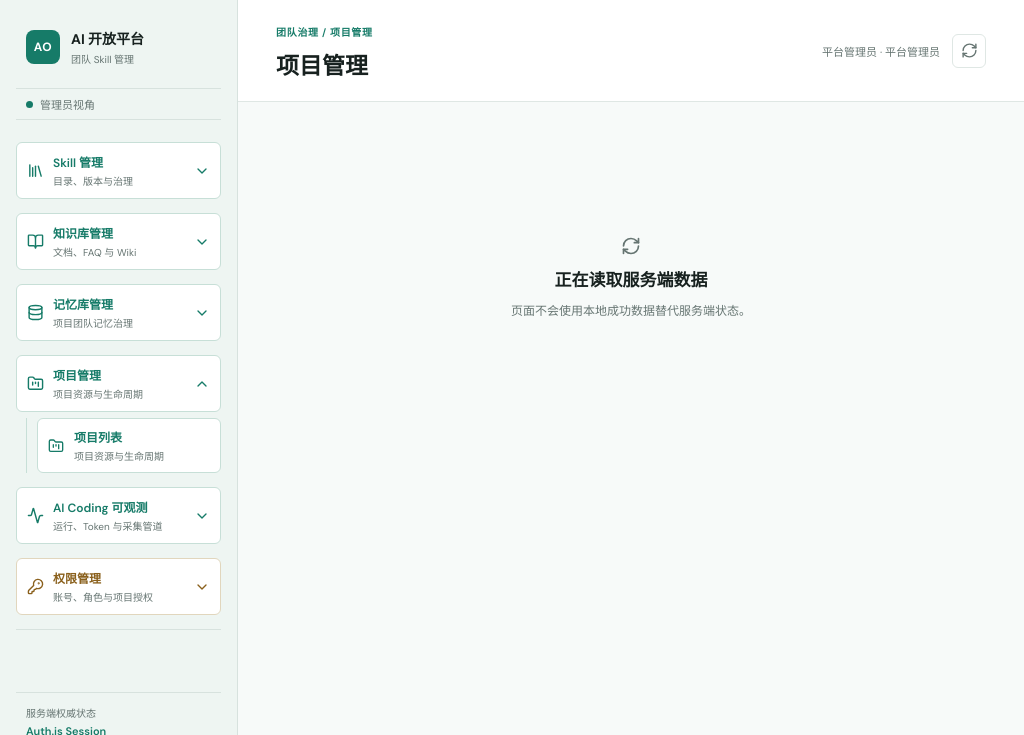
AdminDashboard › fills role and scope labels when the service omits role descriptions
What coordinates should you click on to do the following:
click the button "权限管理 账号、角色与项目授权"
I would click on:
 (118, 586)
Its box is [16,558,221,615].
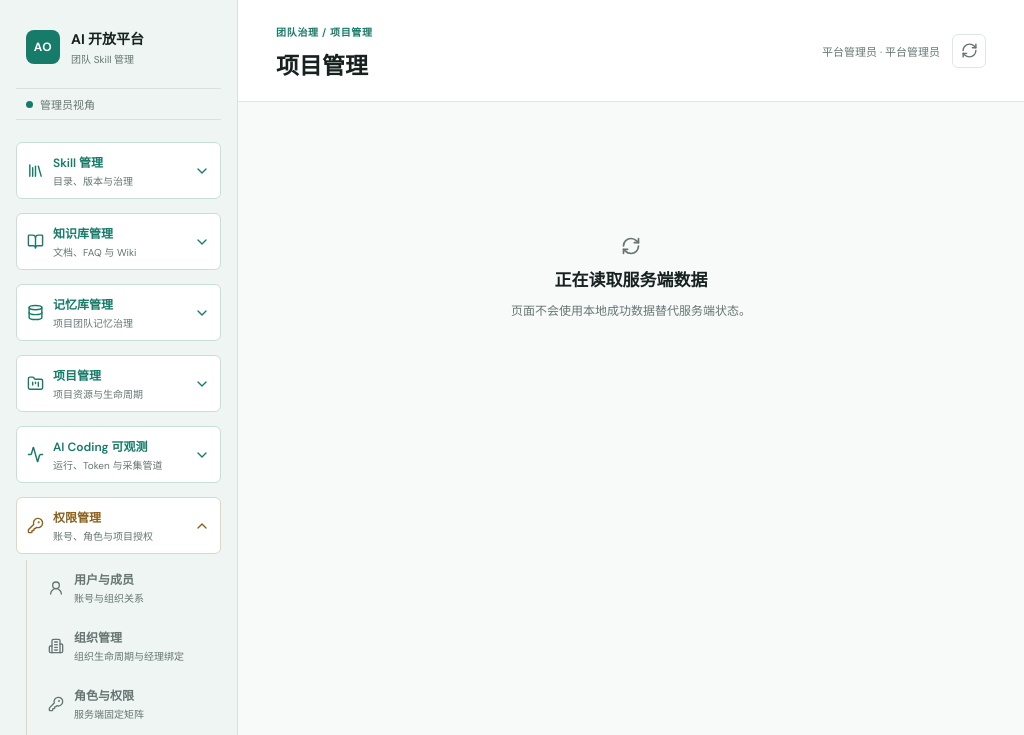
What coordinates should you click on to do the following:
click the button named "角色与权限服务端固定矩阵"
I would click on:
 (129, 704)
Its box is [37,676,221,731].
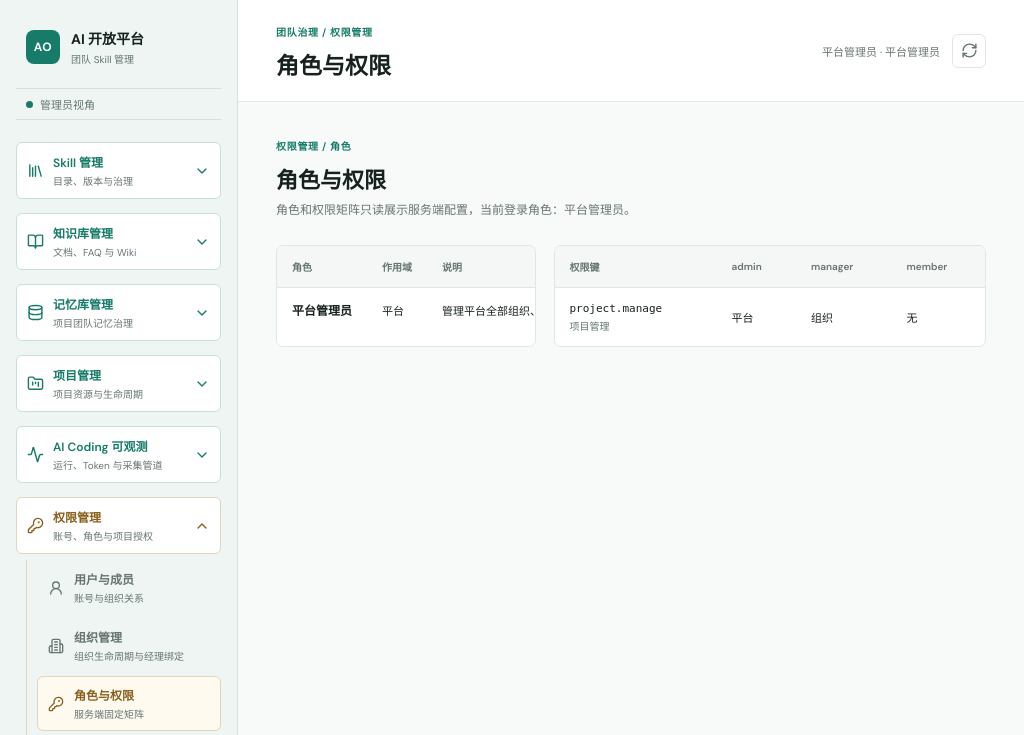
Now the text "平台管理员" is shown, box [292,301,352,319]
Now the text "平台" next to "管理平台全部组织、账号和项目" is shown, box [382,304,404,318]
Now the text "管理平台全部组织、账号和项目" is shown, box [442,304,536,318]
